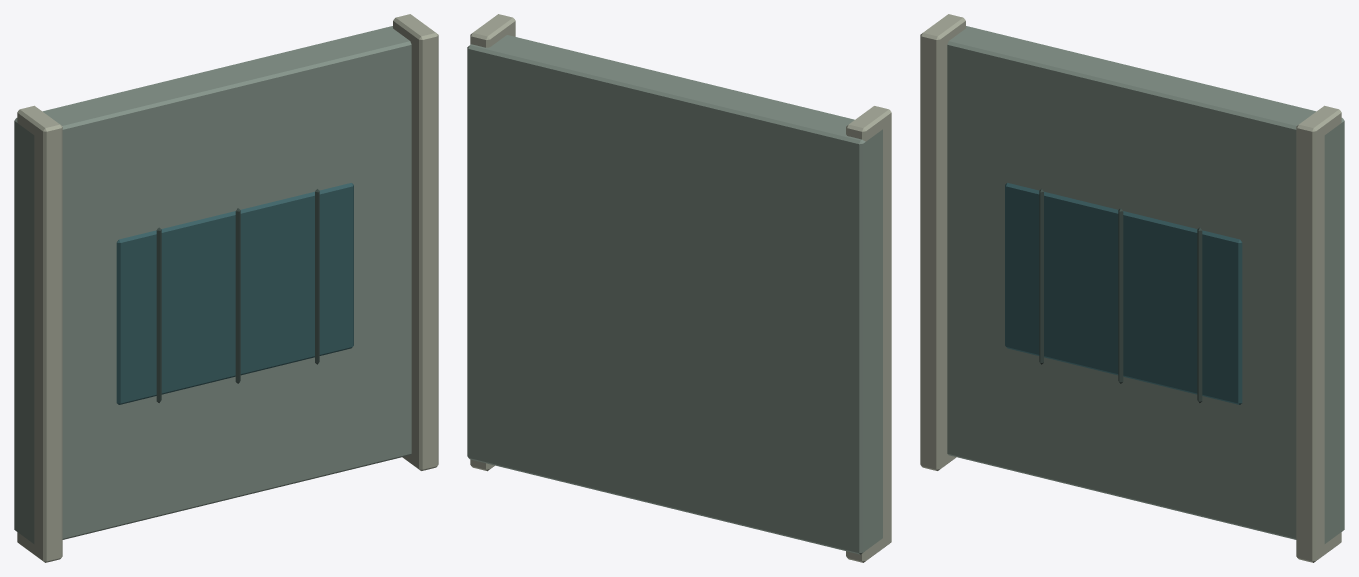
File: wall_window.glb
The picture shows the model from 3 angles, left to right: view 1: azimuth 30°, elevation 25°; view 2: azimuth 150°, elevation 25°; view 3: azimuth 330°, elevation 25°; orthographic projection.
Parts seen in each view (by area): view 1: wall_window.001; view 2: wall_window.001; view 3: wall_window.001.
Part boxes in pixels (x1,y1,x2,y2): wall_window.001: [14, 14, 438, 562]; wall_window.001: [467, 14, 891, 562]; wall_window.001: [920, 14, 1344, 562].
Size of the model in its own units: 4 by 4.2 by 0.55.
